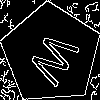W: (26, 29, 89, 93)
